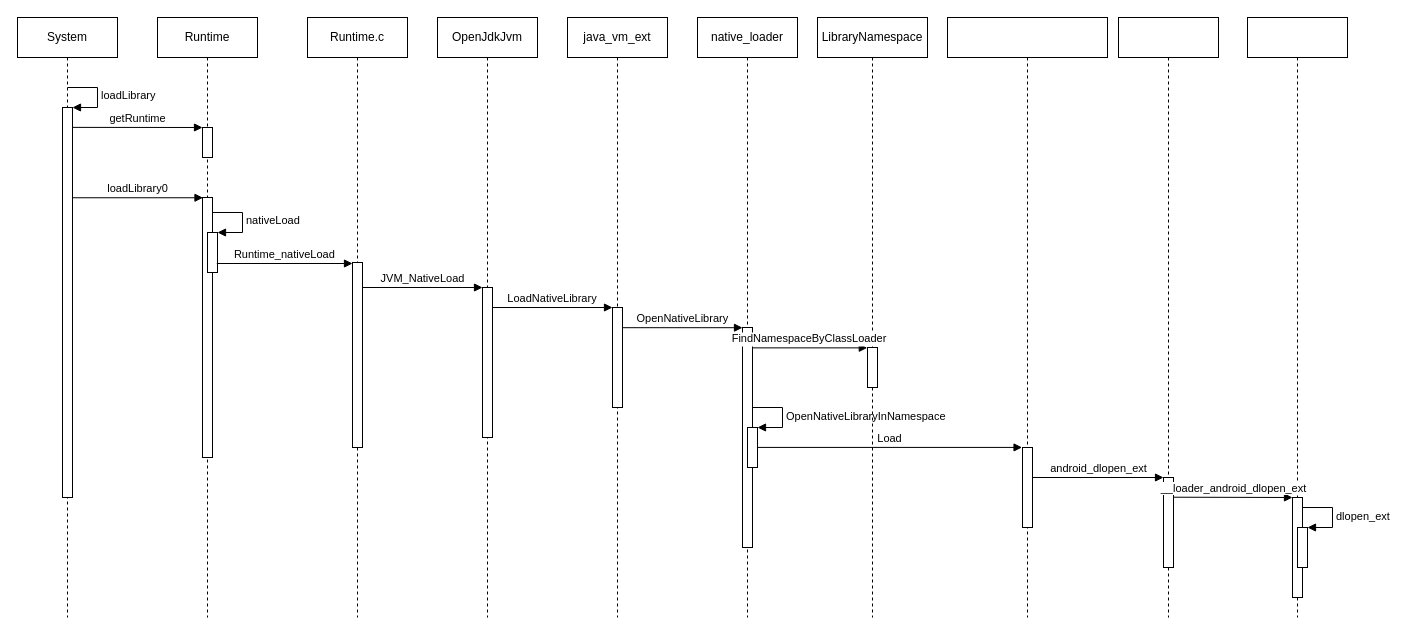
Some shapes in this 1409 by 635 pixel diagram are drawn without their labels. The shapes that lost their labels are listed below. From the top down, each one's box as (x1, y1, x2, y2) in pixels, then its label:
(946, 16, 1108, 618): NativeLoaderNamespace
(1118, 16, 1218, 618): libdl/libdl.cpp
(1246, 16, 1348, 618): linker/dlfcn
